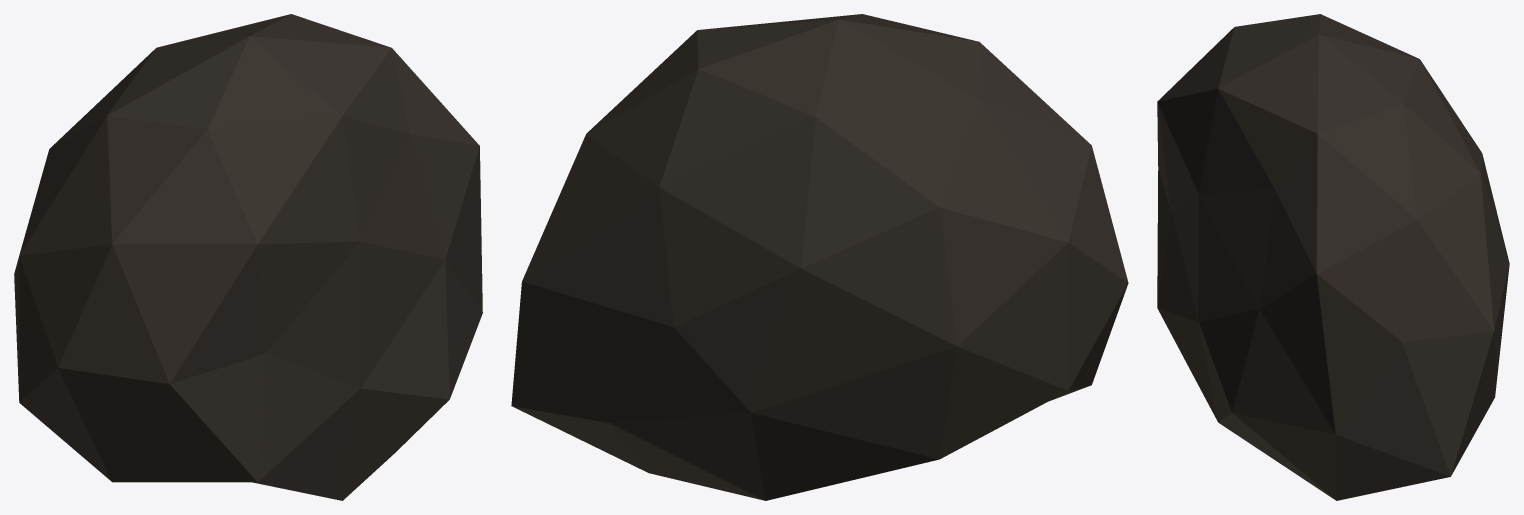
File: rocksmall.fbx
3 renders of one model, left to right at view 1: azimuth 30°, elevation 25°; view 2: azimuth 150°, elevation 25°; view 3: azimuth 270°, elevation 25°, orthographic. The views are drawn at different scales.
Parts seen in each view (by area): view 1: Icosphere.009; view 2: Icosphere.009; view 3: Icosphere.009.
Boxes of the visible parts, bbox=[...] form: Icosphere.009: bbox=[14, 14, 482, 500]; Icosphere.009: bbox=[511, 14, 1128, 500]; Icosphere.009: bbox=[1157, 14, 1509, 500].
Size of the model in its own units: 20.18 by 14.54 by 18.25.
